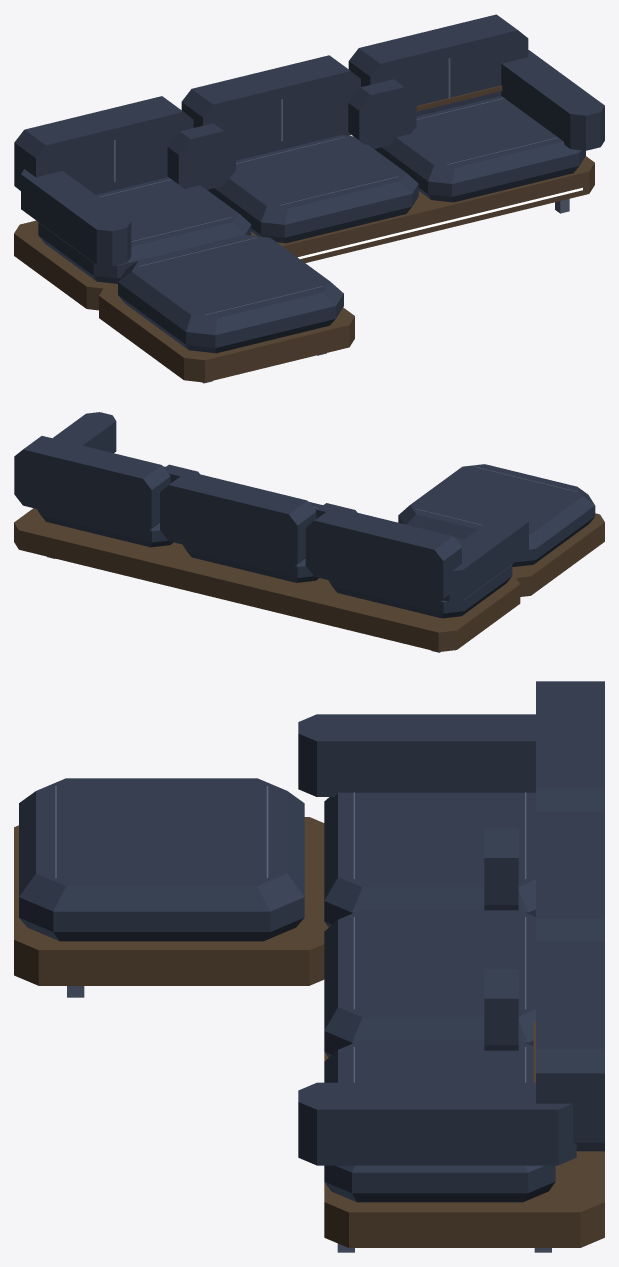
Rendered from res_luxury_sofa_l.glb.
The picture shows the model from 3 angles, top to bottom: view 1: azimuth 30°, elevation 25°; view 2: azimuth 150°, elevation 25°; view 3: azimuth 270°, elevation 25°; orthographic projection. The views are drawn at different scales.
Parts seen in each view (by area): view 1: back_cushion, chaise_base, back_seam, base_light; view 2: back_cushion, chaise_base; view 3: back_cushion, chaise_base, back_seam.
Boxes of the visible parts, x1=… form: back_cushion: x1=14, y1=14, x2=604, y2=353; chaise_base: x1=14, y1=85, x2=594, y2=382; back_seam: x1=99, y1=58, x2=557, y2=315; base_light: x1=298, y1=187, x2=582, y2=258; back_cushion: x1=14, y1=412, x2=595, y2=618; chaise_base: x1=14, y1=508, x2=604, y2=651; back_cushion: x1=19, y1=681, x2=604, y2=1202; chaise_base: x1=14, y1=817, x2=604, y2=1247; back_seam: x1=55, y1=786, x2=526, y2=1082.
Bounding box in the file's own units: 3.8 × 0.95 × 2.4.
